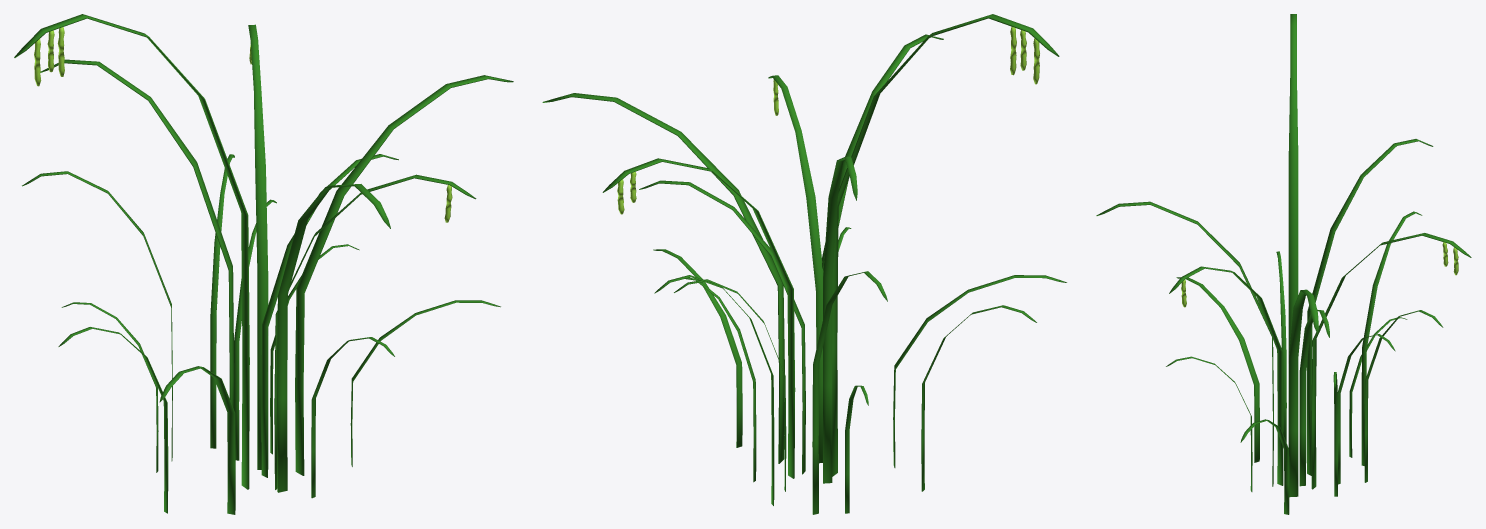
Rendered from CurvedSedge.fbx.
3 renders of one model, left to right at view 1: azimuth 30°, elevation 25°; view 2: azimuth 150°, elevation 25°; view 3: azimuth 270°, elevation 25°, orthographic. The views are drawn at different scales.
Parts seen in each view (by area): view 1: CurvedSedge; view 2: CurvedSedge; view 3: CurvedSedge.
Part boxes in pixels (left/top/right/bottom): CurvedSedge: left=14, top=14, right=513, bottom=514; CurvedSedge: left=542, top=14, right=1066, bottom=514; CurvedSedge: left=1096, top=14, right=1471, bottom=514.
Bounding box in the file's own units: 2.46 × 2.33 × 2.03.
